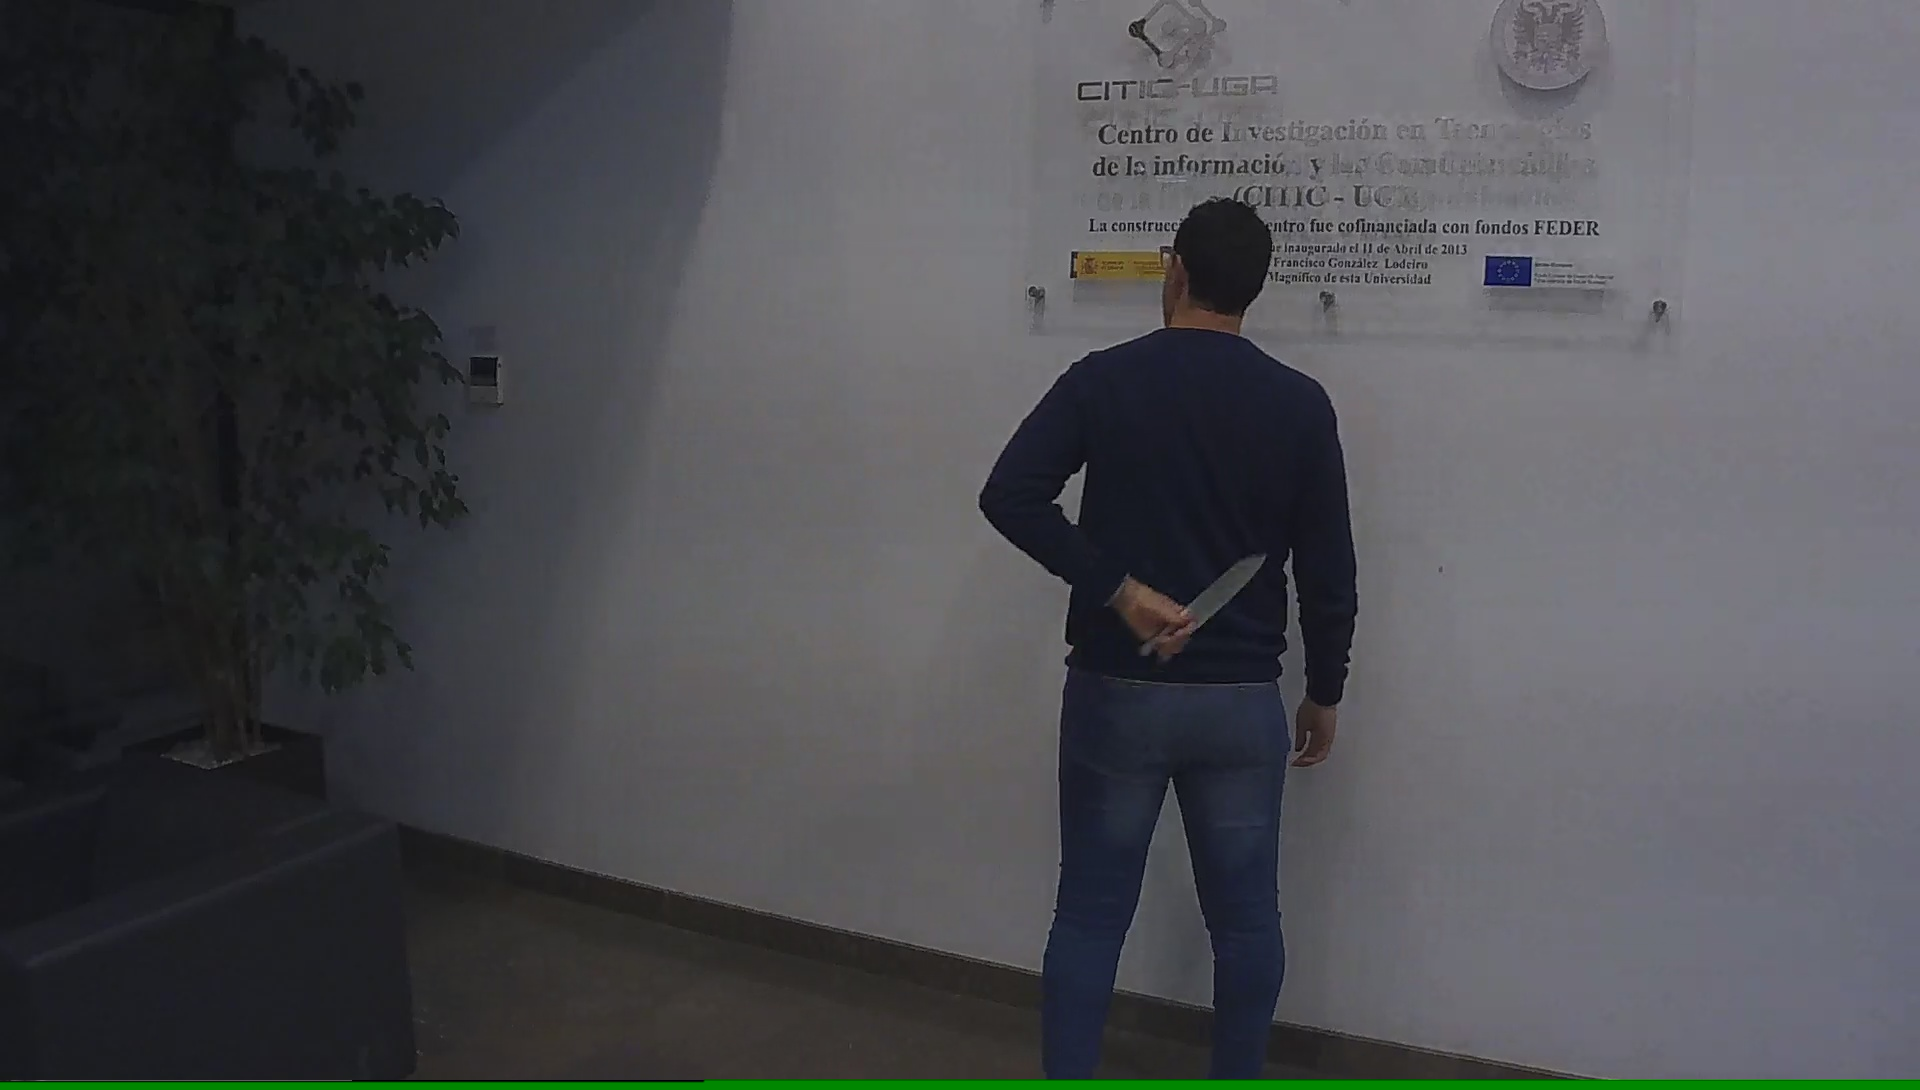knife: (1133, 540, 1276, 662)
